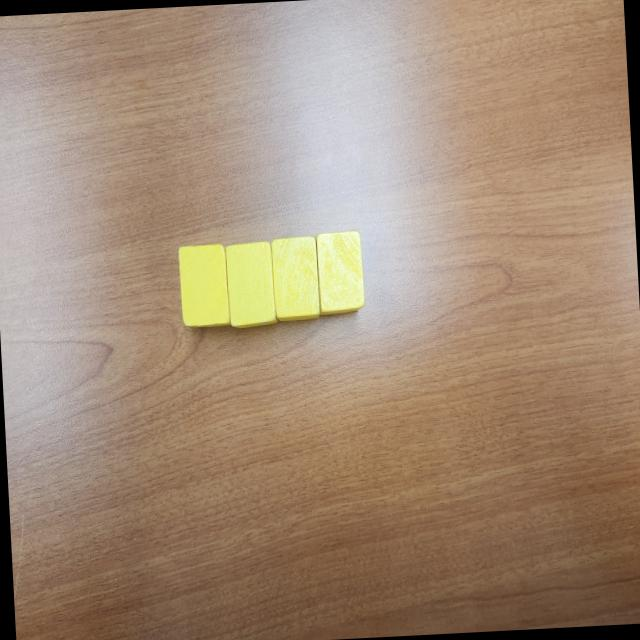yellow: (178, 243, 232, 331), (225, 242, 278, 331), (270, 235, 322, 324), (316, 231, 365, 317)
